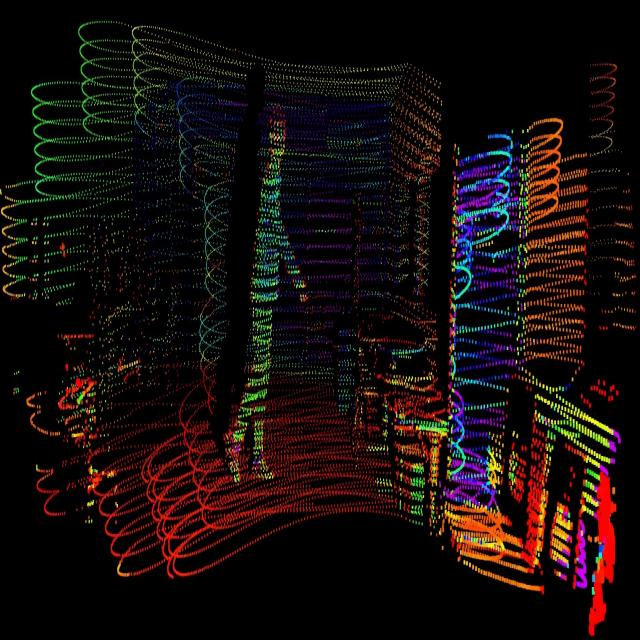human: (229, 87, 310, 496)
